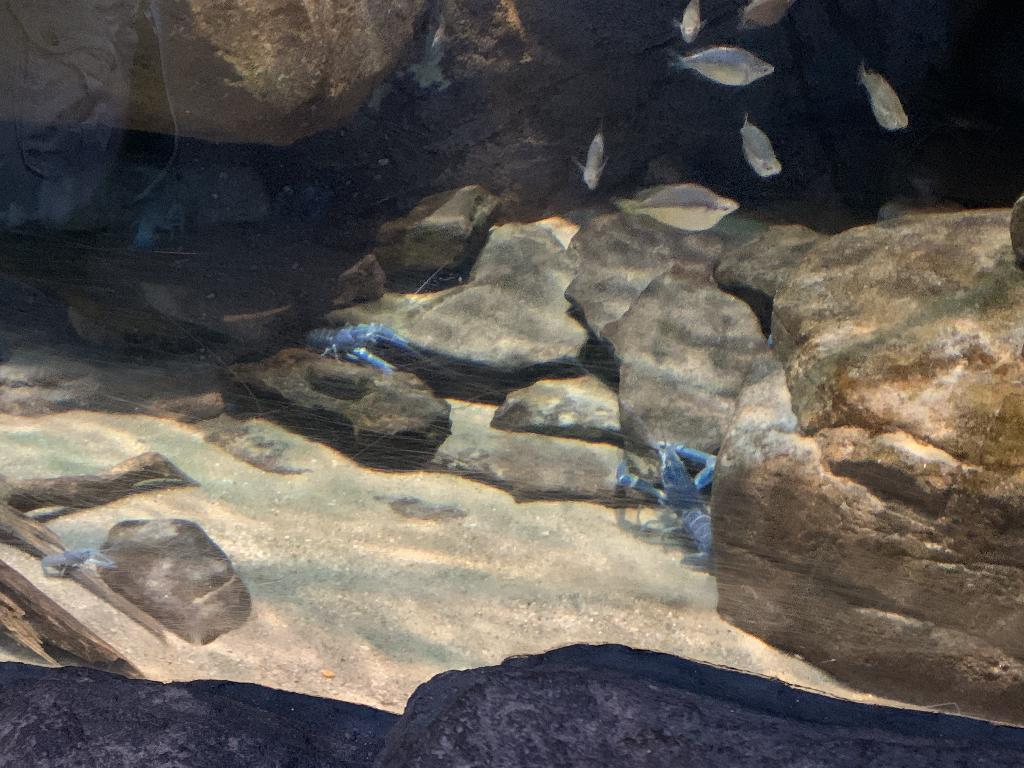fish: (616, 177, 740, 235), (666, 45, 774, 88), (856, 58, 910, 134), (739, 112, 785, 180), (572, 119, 612, 190), (735, 0, 795, 34), (672, 0, 711, 45)
